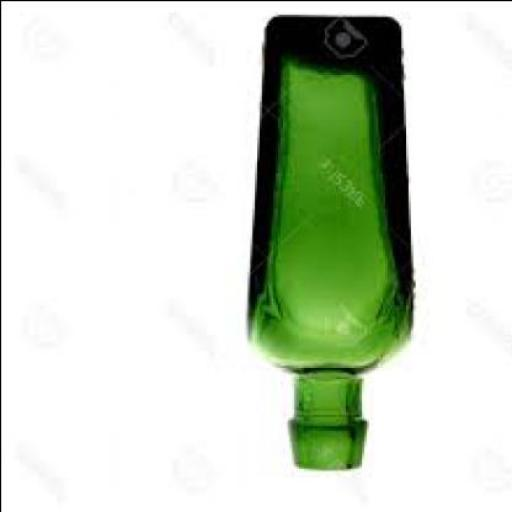glass: (242, 18, 409, 472)
